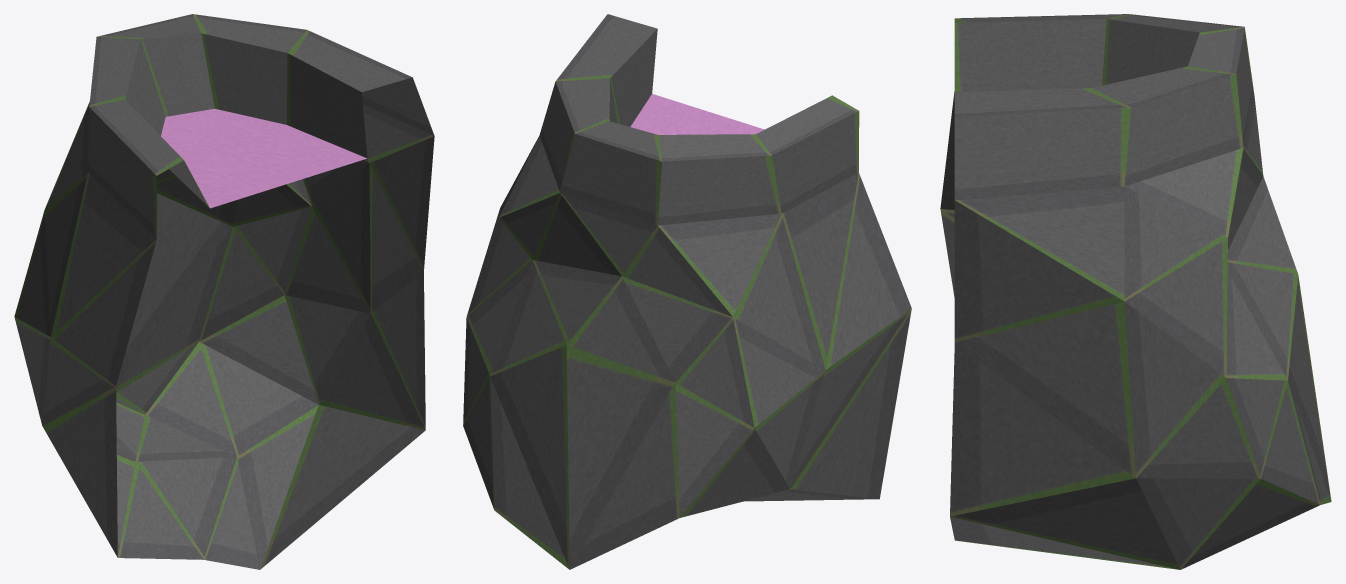
The model's file is cave_3.fbx.
3 renders of one model, left to right at view 1: azimuth 30°, elevation 25°; view 2: azimuth 150°, elevation 25°; view 3: azimuth 270°, elevation 25°, orthographic. The views are drawn at different scales.
Parts seen in each view (by area): view 1: Icosphere.033; view 2: Icosphere.033; view 3: Icosphere.033.
Boxes of the visible parts, x1,y1,x2,y2 form: Icosphere.033: [14, 14, 434, 569]; Icosphere.033: [463, 14, 911, 569]; Icosphere.033: [940, 14, 1331, 569].
Bounding box in the file's own units: 1036 × 1315 × 921.
